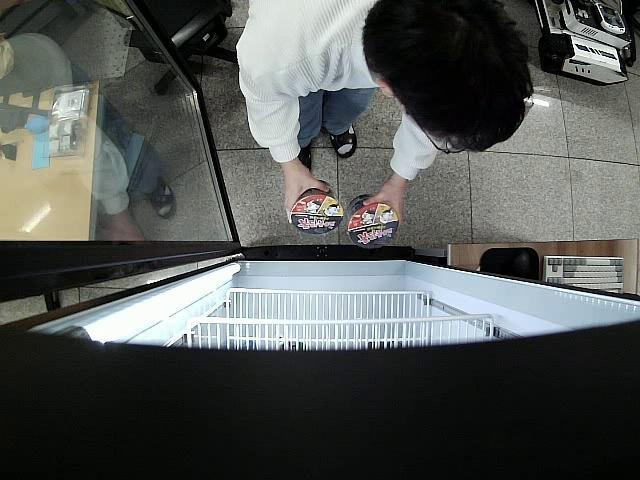07_buldak_L: (290, 178, 343, 237), (347, 193, 398, 252)
